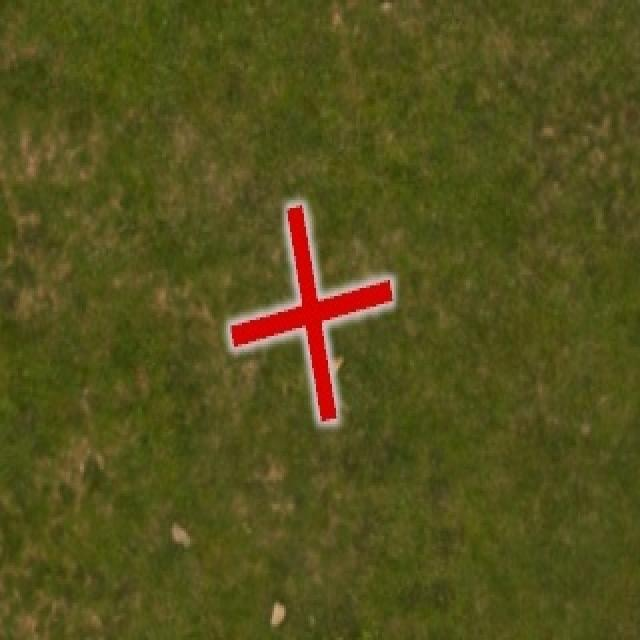x_marker: (229, 204, 391, 420)
